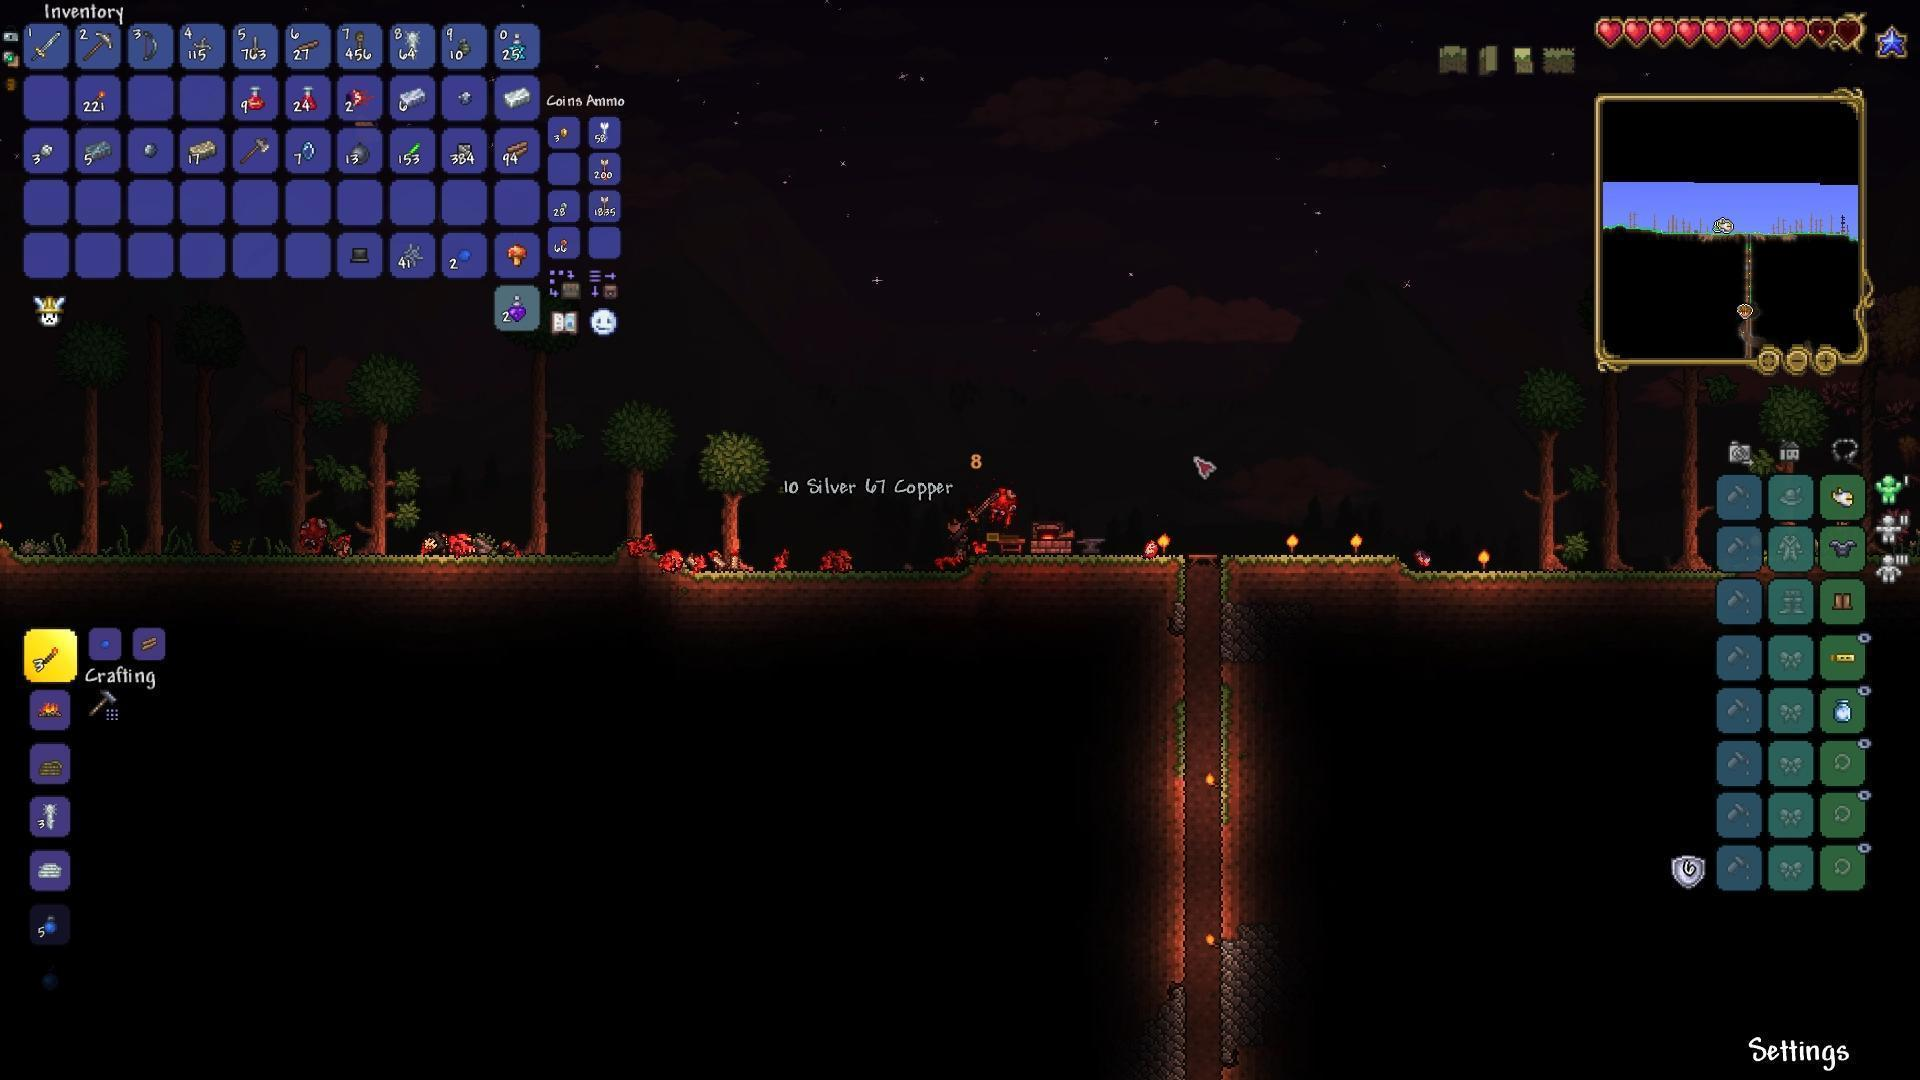anvil: (1073, 533, 1106, 554)
arrow: (597, 117, 611, 140), (600, 156, 608, 179)
axe: (241, 137, 272, 164)
bomb: (349, 141, 372, 166)
bow: (140, 29, 161, 65)
breastplate: (1828, 538, 1861, 560)
cobwebI: (404, 244, 426, 262)
eye: (345, 83, 373, 107)
furnace: (1026, 520, 1077, 558)
gel: (459, 243, 473, 265)
glowstick: (401, 141, 425, 162)
grenade: (455, 36, 471, 57)
helmet: (1830, 487, 1858, 506)
knife: (248, 32, 260, 58)
legs: (1829, 592, 1855, 613)
lens: (299, 140, 315, 161)
pickaxe: (80, 30, 113, 63)
platform: (1182, 546, 1222, 566), (293, 37, 323, 55)
recallP: (505, 32, 526, 59)
rope: (405, 29, 423, 61), (352, 30, 371, 61), (44, 800, 58, 829)
shuriken: (191, 36, 212, 57)
sword: (32, 29, 62, 65)
workbench: (990, 531, 1029, 554)
